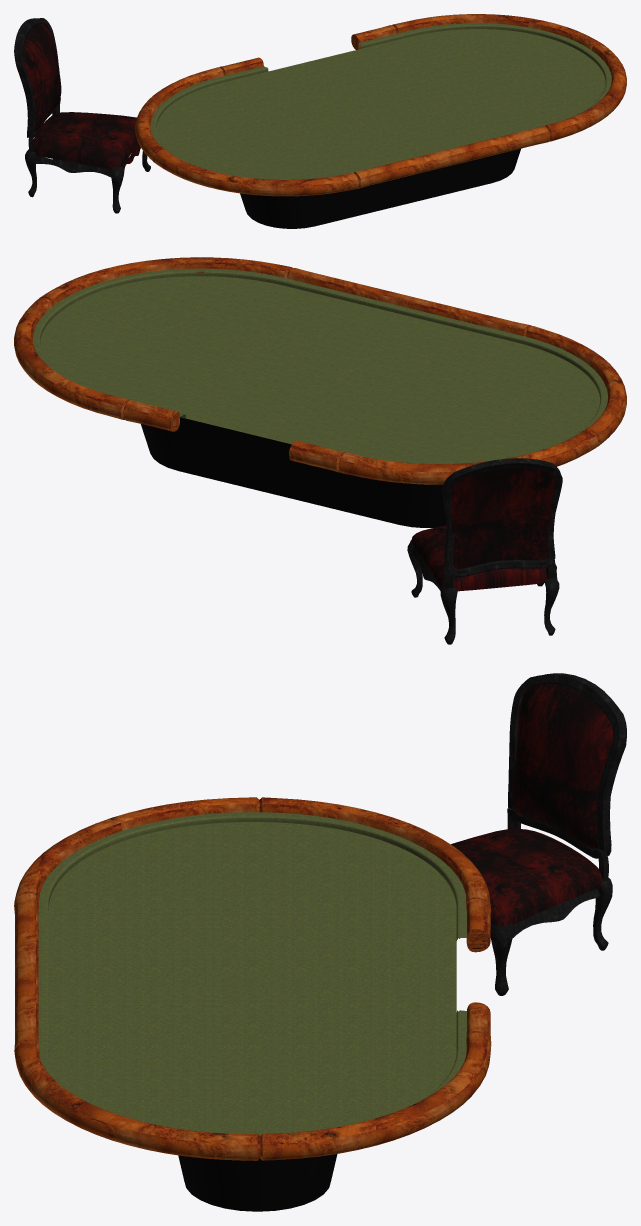
Rendered from snookertable.FBX.
3 views of the same model, one above another, from view 1: azimuth 30°, elevation 25°; view 2: azimuth 150°, elevation 25°; view 3: azimuth 270°, elevation 25° (orthographic). The views are drawn at different scales.
Visible parts, largest first — view 1: tabla01, Loft01, Rectangle01, Capsule003, Object001, Capsule004, Loft023, Line011, Loft026, Loft029; view 2: tabla01, Loft01, Rectangle01, Capsule004, Object001, Loft023, Capsule003, Loft028, Loft029; view 3: tabla01, Loft01, Capsule004, Capsule003, Object001, Rectangle01, Loft023, Loft027, Line010, Loft028.
Boxes of the visible parts, x1,y1,x2,y2 form: tabla01: (156, 29, 605, 179); Loft01: (135, 14, 626, 196); Rectangle01: (240, 148, 520, 228); Capsule003: (33, 112, 138, 168); Object001: (150, 23, 611, 161); Capsule004: (23, 23, 61, 131); Loft023: (14, 18, 59, 137); Line011: (33, 155, 111, 177); Loft026: (110, 166, 124, 213); Loft029: (25, 149, 36, 197); tabla01: (40, 276, 600, 463); Loft01: (14, 257, 626, 484); Rectangle01: (141, 417, 446, 527); Capsule004: (451, 467, 555, 568); Object001: (33, 268, 607, 442); Loft023: (442, 458, 562, 577); Capsule003: (411, 525, 547, 591); Loft028: (440, 586, 457, 644); Loft029: (544, 577, 559, 635); tabla01: (48, 822, 456, 1135); Loft01: (14, 797, 491, 1160); Capsule004: (512, 684, 612, 849); Capsule003: (451, 828, 602, 927); Object001: (38, 812, 466, 1104); Rectangle01: (178, 1154, 337, 1211); Loft023: (508, 673, 626, 858); Loft027: (490, 924, 513, 995); Line010: (512, 888, 600, 937); Loft028: (593, 877, 612, 950).
Size of the model in its own units: 425 by 122 by 282.
